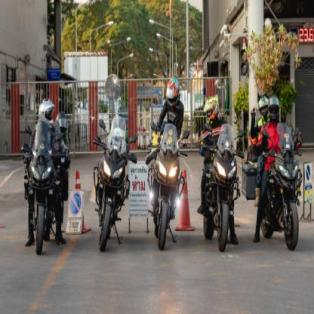Motocicleta: (23, 120, 62, 254), (201, 131, 239, 253), (264, 137, 305, 249), (149, 128, 180, 258), (90, 120, 120, 249)
